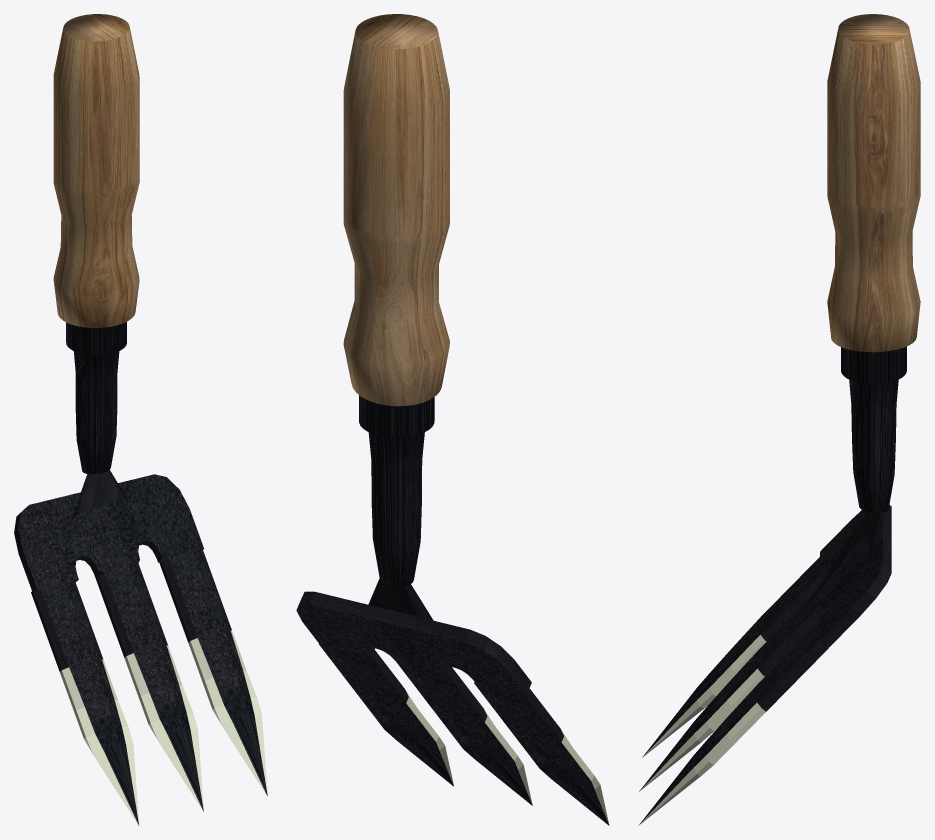
File: gardenhandfork.fbx
3 views of the same model, side by side, from view 1: azimuth 30°, elevation 25°; view 2: azimuth 150°, elevation 25°; view 3: azimuth 270°, elevation 25° (orthographic). The views are drawn at different scales.
Visible parts, largest first — view 1: Cube.002, Cylinder, Plane; view 2: Cylinder, Cube.002, Plane; view 3: Cylinder, Cube.002, Plane.
Boxes of the visible parts, bbox=[...] form: Cube.002: bbox=[14, 474, 267, 825]; Cylinder: bbox=[53, 14, 139, 474]; Plane: bbox=[70, 470, 128, 521]; Cylinder: bbox=[343, 14, 449, 587]; Cube.002: bbox=[296, 591, 609, 825]; Plane: bbox=[368, 578, 433, 620]; Cylinder: bbox=[827, 14, 920, 512]; Cube.002: bbox=[638, 505, 891, 825]; Plane: bbox=[802, 512, 879, 612].
Bounding box in the file's own units: 136 × 542 × 181.
